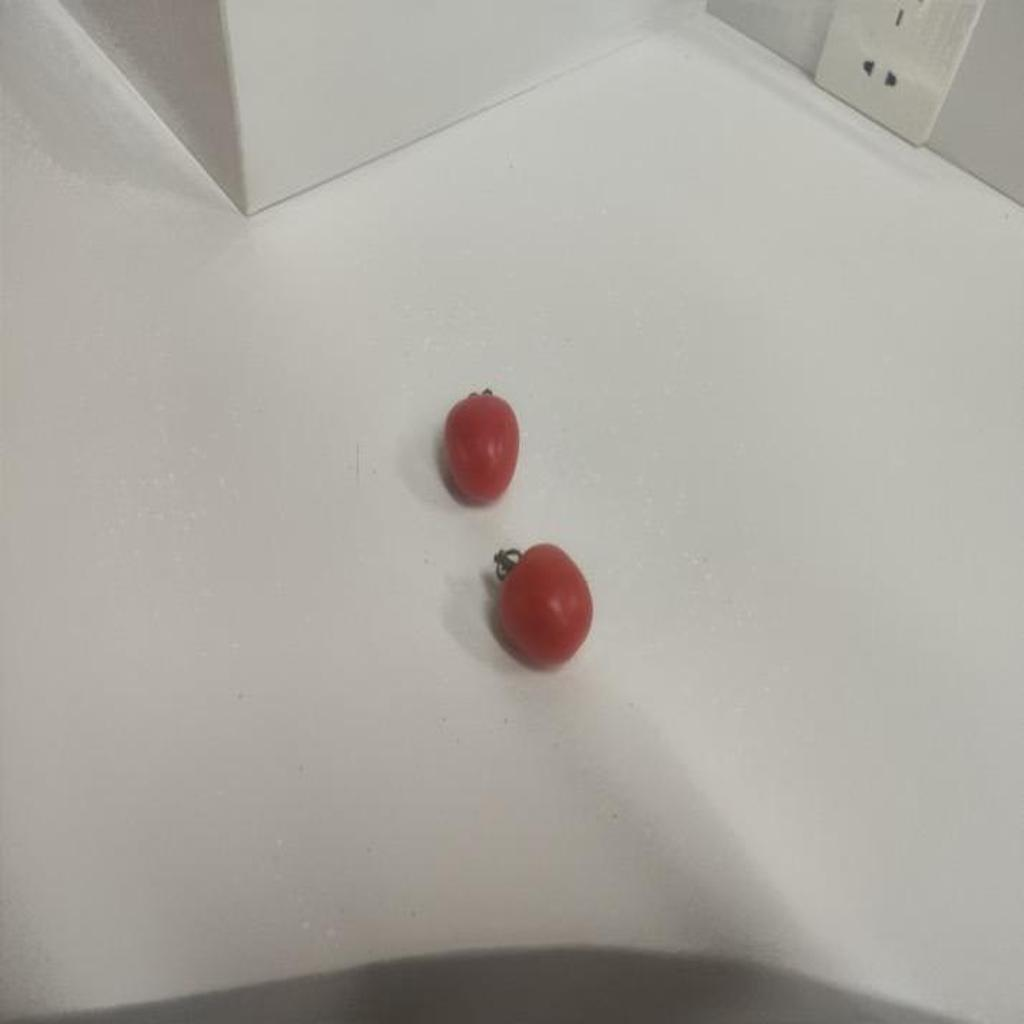tomato: (486, 537, 600, 672), (425, 390, 529, 511)
